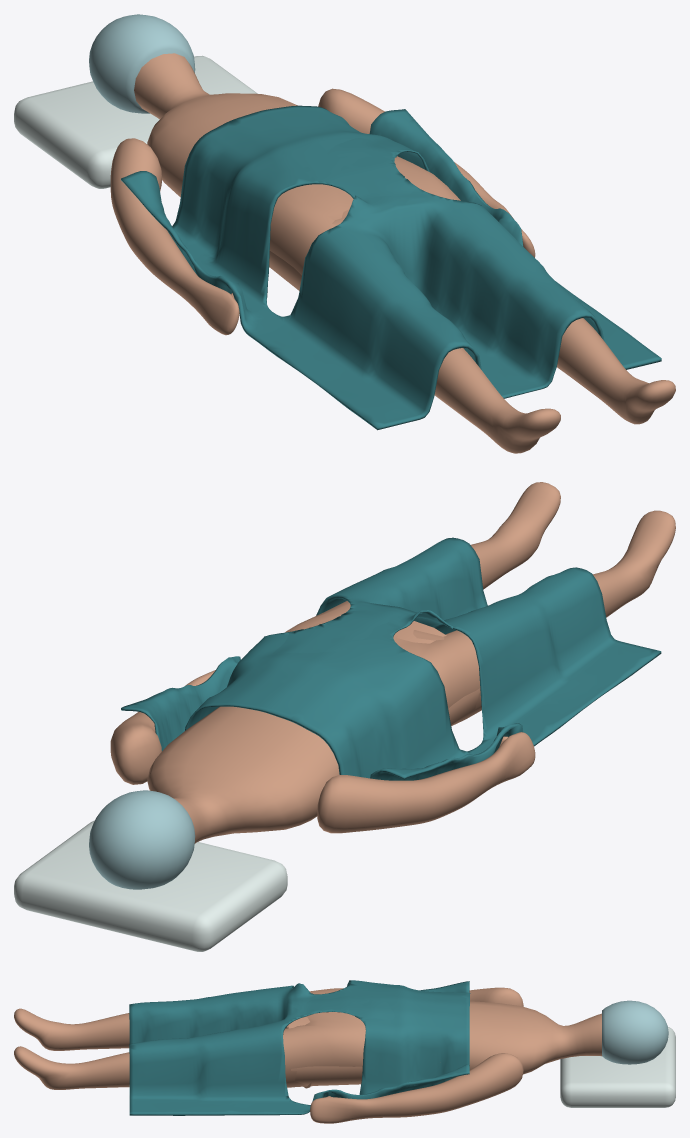
File: patient-femoral-access.glb
3 views of the same model, one above another, from view 1: azimuth 30°, elevation 25°; view 2: azimuth 150°, elevation 25°; view 3: azimuth 270°, elevation 25° (orthographic). The views are drawn at different scales.
Parts seen in each view (by area): view 1: patient_femoral_access; view 2: patient_femoral_access; view 3: patient_femoral_access.
Part boxes in pixels (x1,y1,x2,y2): patient_femoral_access: (14, 14, 675, 453); patient_femoral_access: (14, 482, 675, 951); patient_femoral_access: (14, 980, 675, 1123).
Bounding box in the file's own units: 0.684 × 0.2574 × 1.83.
